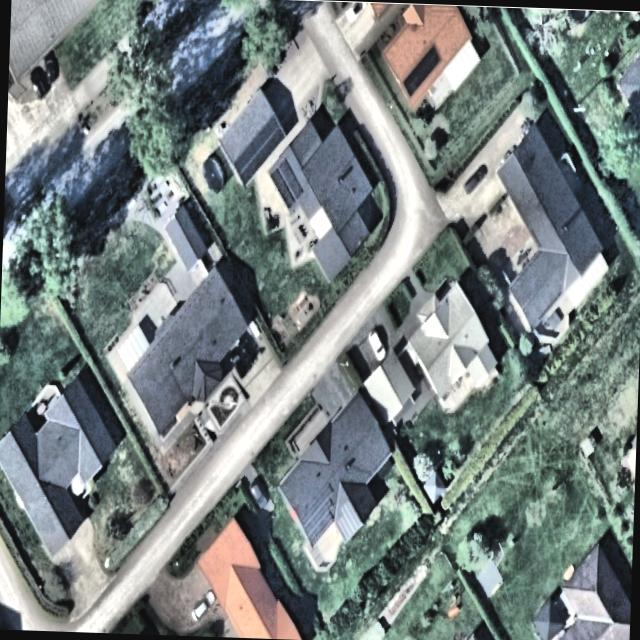roof_pv: (230, 112, 288, 186), (399, 40, 443, 100), (270, 155, 310, 208), (303, 487, 338, 546), (332, 498, 364, 540)
